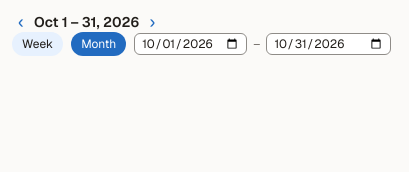
RangeNav with RangeControls › steps a month back to the whole previous month and keeps Month selected
Click the button named "Previous period".
click(21, 22)  # box [12,13,30,31]
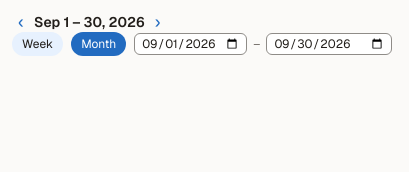
Click the button named "Previous period".
click(21, 22)  # box [12,13,30,31]
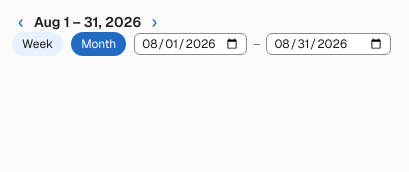
Check: the 1st date field named "Range start" holds "2026-08-01", box [134,33,247,55]
Check: the 2nd date field named "Range end" holds "2026-08-31", box [266,33,391,55]
